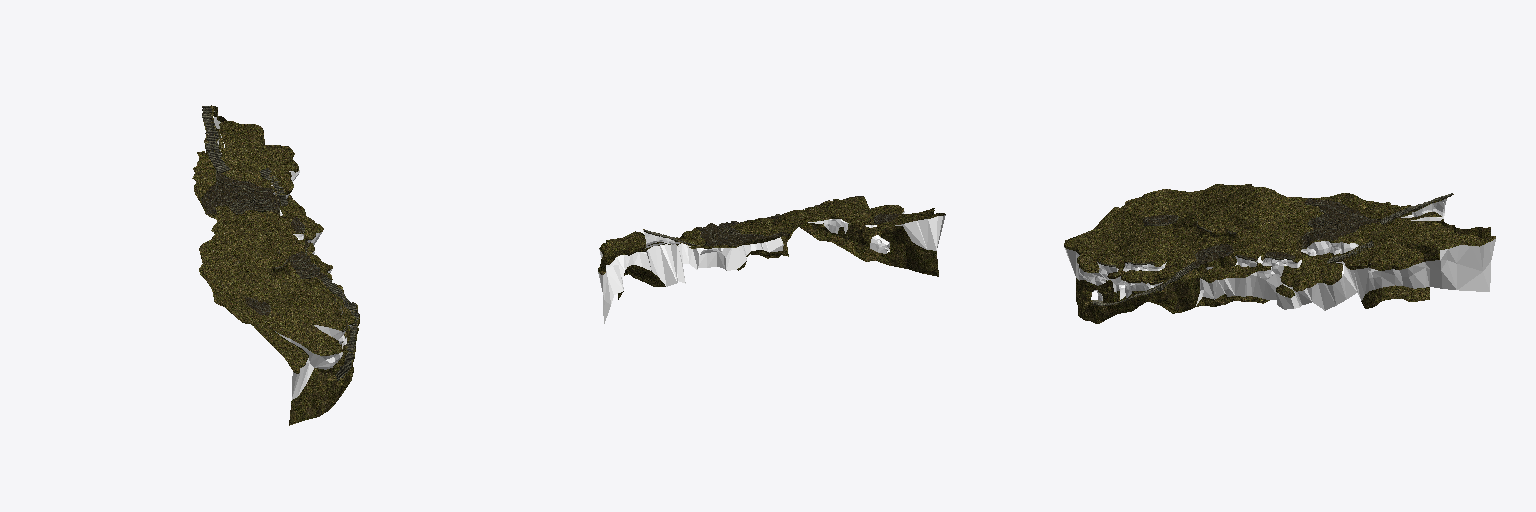
The picture shows the model from 3 angles: view 1: azimuth 30°, elevation 25°; view 2: azimuth 150°, elevation 25°; view 3: azimuth 270°, elevation 25°; orthographic projection.
Visible parts, largest first — view 1: mesh1, mesh7, mesh4, mesh5, mesh0, mesh2, mesh9, mesh10; view 2: mesh0, mesh7, mesh1, mesh5, mesh4; view 3: mesh1, mesh0, mesh7, mesh4, mesh5, mesh2, mesh6.
Boxes of the visible parts, <box> form: mesh1: <box>192,116,355,370</box>; mesh7: <box>203,106,359,425</box>; mesh4: <box>201,180,348,331</box>; mesh5: <box>213,170,277,214</box>; mesh0: <box>213,111,351,399</box>; mesh2: <box>237,210,317,306</box>; mesh9: <box>202,106,359,380</box>; mesh10: <box>211,159,355,357</box>; mesh0: <box>598,211,945,323</box>; mesh7: <box>598,197,945,299</box>; mesh1: <box>601,197,944,256</box>; mesh5: <box>696,224,763,245</box>; mesh4: <box>703,196,900,245</box>; mesh1: <box>1064,184,1482,300</box>; mesh0: <box>1064,199,1495,310</box>; mesh7: <box>1064,194,1495,323</box>; mesh4: <box>1097,198,1370,267</box>; mesh5: <box>1302,207,1380,242</box>; mesh2: <box>1155,220,1313,259</box>; mesh6: <box>1276,219,1494,297</box>.
Size of the model in its own units: 44.24 by 33.69 by 84.06.
Materials: 12 (3 with a texture image).